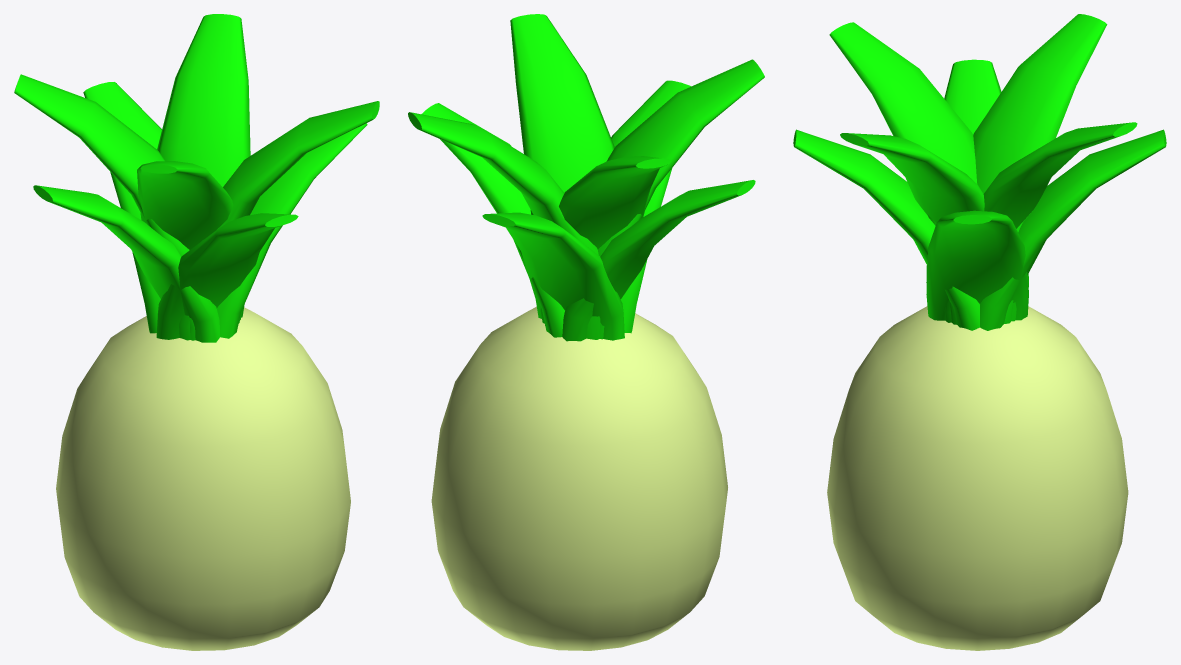
File: Pineapple.FBX
The picture shows the model from 3 angles, left to right: view 1: azimuth 30°, elevation 25°; view 2: azimuth 150°, elevation 25°; view 3: azimuth 270°, elevation 25°; orthographic projection.
Parts seen in each view (by area): view 1: Pineapple; view 2: Pineapple; view 3: Pineapple.
Boxes of the visible parts, x1=… form: Pineapple: x1=14, y1=14, x2=379, y2=650; Pineapple: x1=408, y1=14, x2=764, y2=650; Pineapple: x1=793, y1=14, x2=1166, y2=650.
Size of the model in its own units: 6.39 by 6.39 by 9.97.
